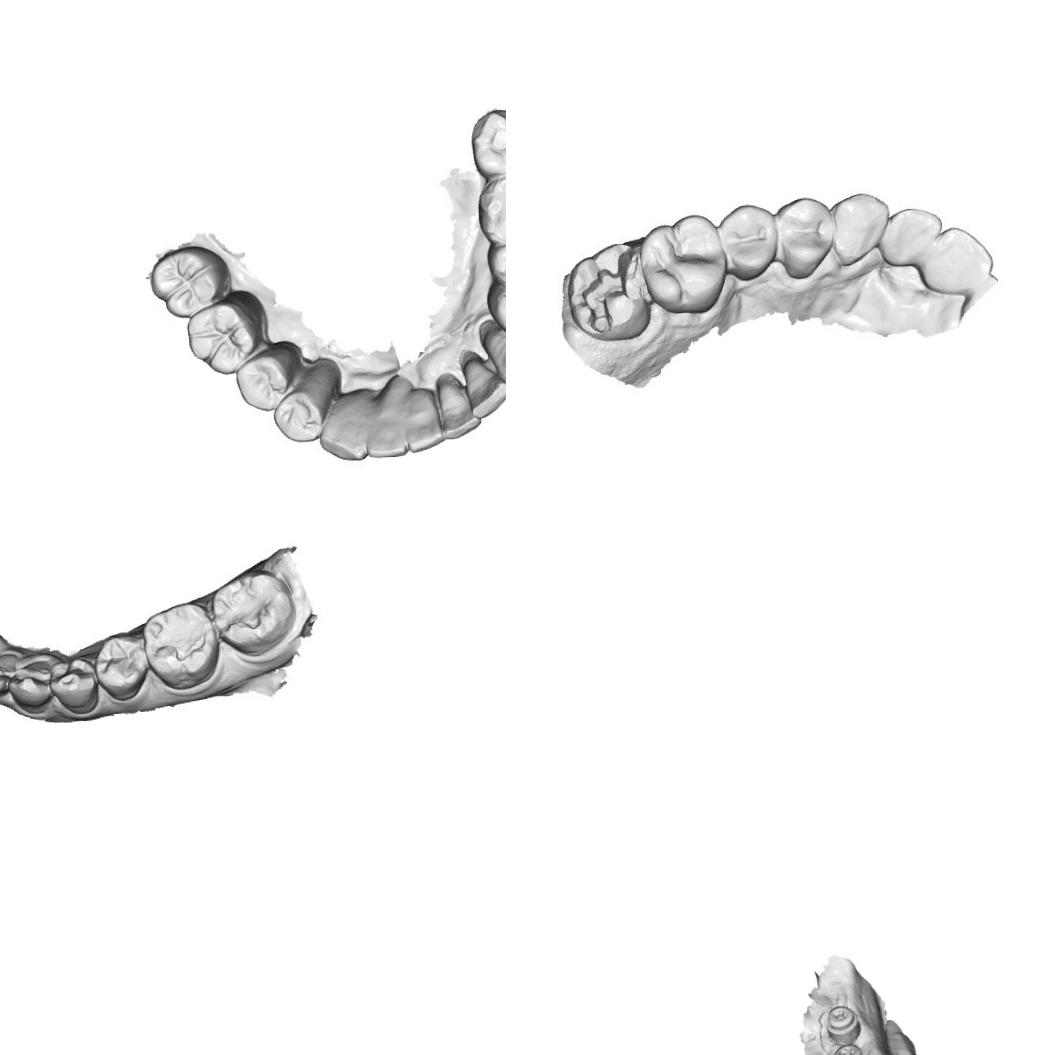canine: (828, 190, 891, 268), (316, 390, 367, 462), (10, 657, 55, 711), (480, 316, 506, 388)
implant_plus: (824, 1004, 863, 1046), (831, 1041, 868, 1055)
incisor: (917, 224, 996, 298), (360, 374, 415, 461), (878, 205, 946, 272), (460, 351, 506, 416), (398, 383, 442, 449), (437, 374, 481, 438), (0, 652, 16, 695)
inlay: (574, 247, 646, 336)
molar: (638, 211, 725, 316), (210, 566, 296, 662), (184, 288, 273, 375), (141, 598, 220, 691), (147, 243, 232, 322), (467, 104, 506, 179), (471, 172, 506, 246)
premolar: (773, 194, 834, 280), (718, 201, 780, 284), (95, 632, 147, 702), (46, 650, 100, 715), (236, 355, 289, 410), (272, 391, 325, 442), (482, 236, 506, 291), (486, 283, 506, 338)
